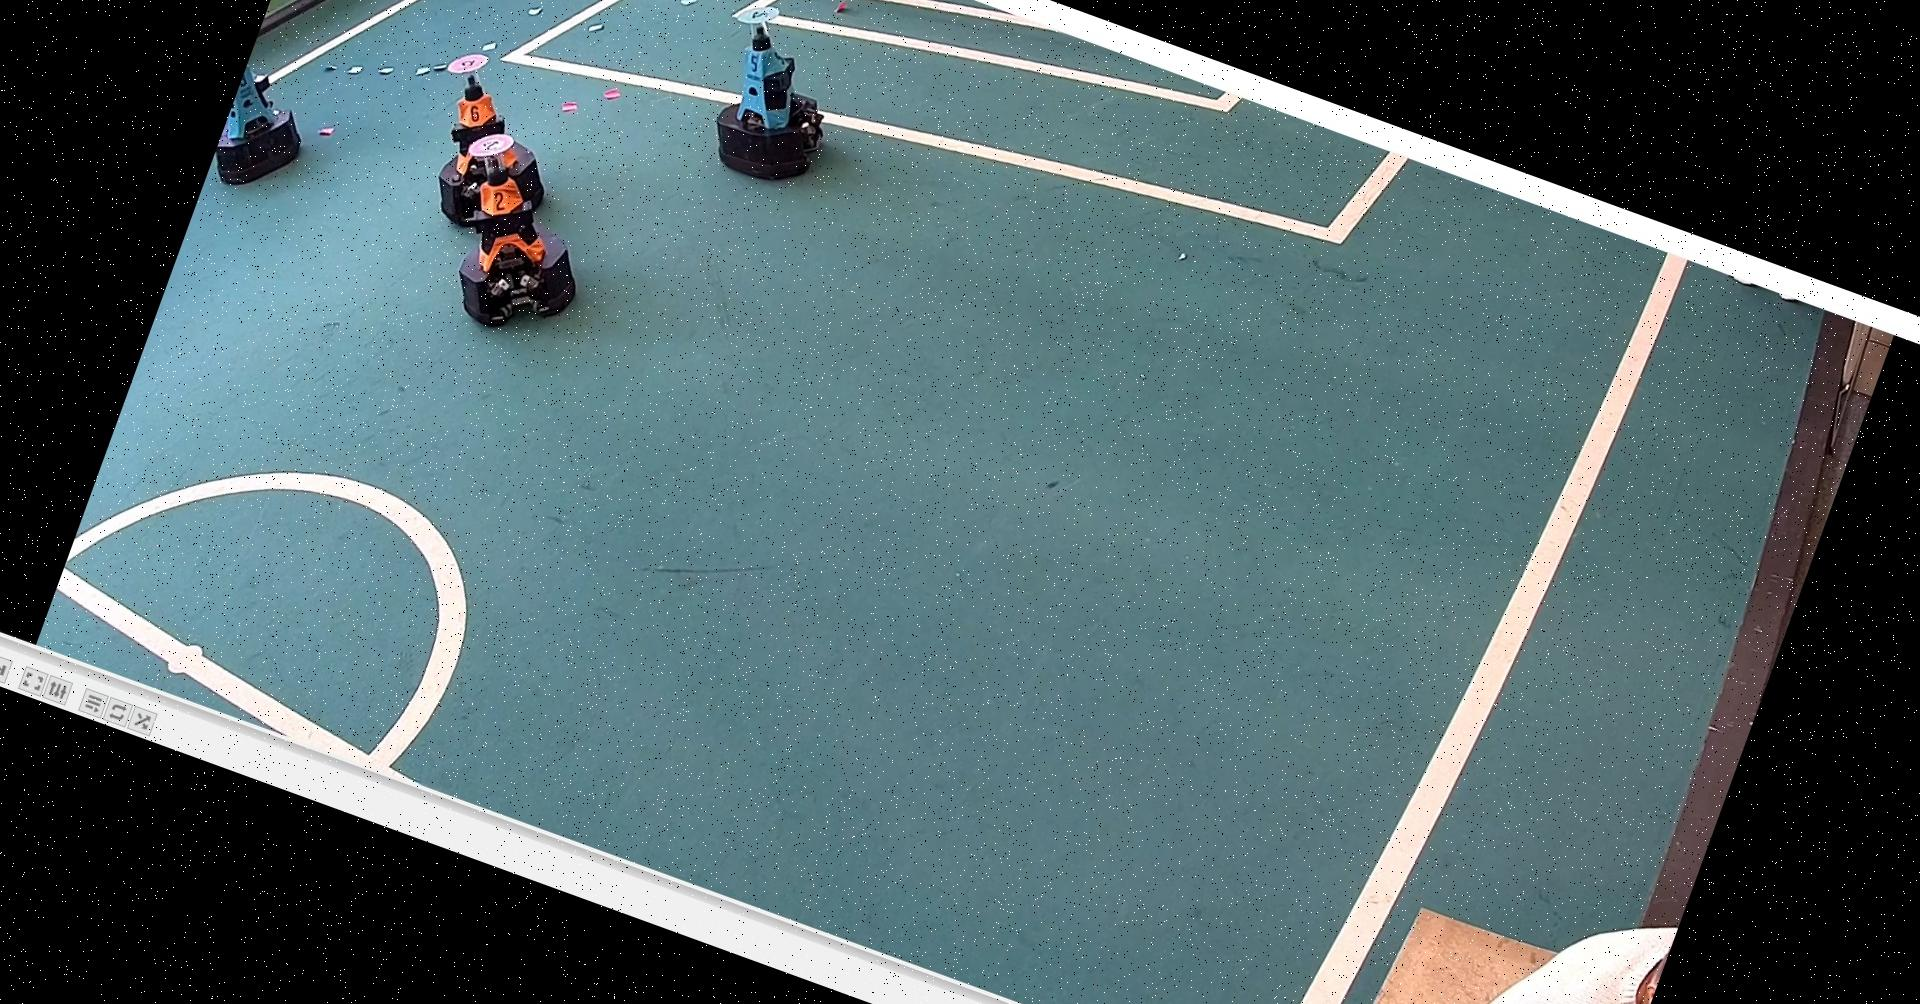Team_Blue: (683, 0, 875, 203), (206, 44, 343, 206)
Team_Red: (409, 122, 622, 352), (392, 34, 585, 249)
